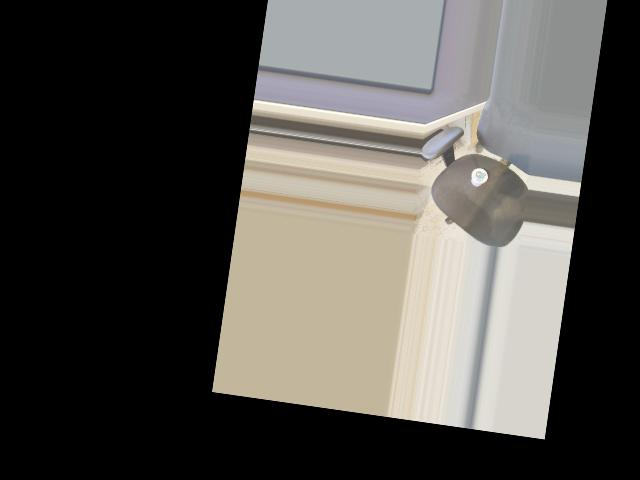cotage: (468, 166, 492, 192)
